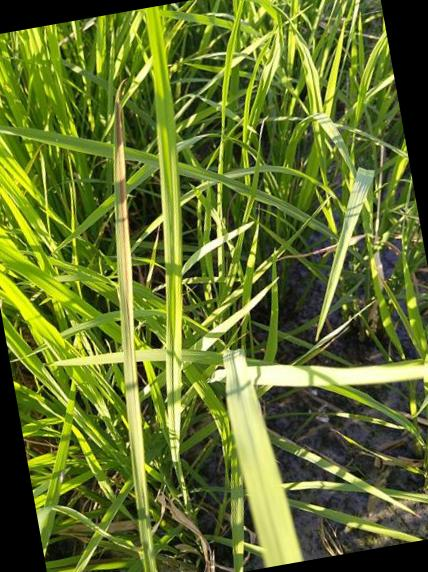Leaf Blight: (112, 103, 144, 455)
